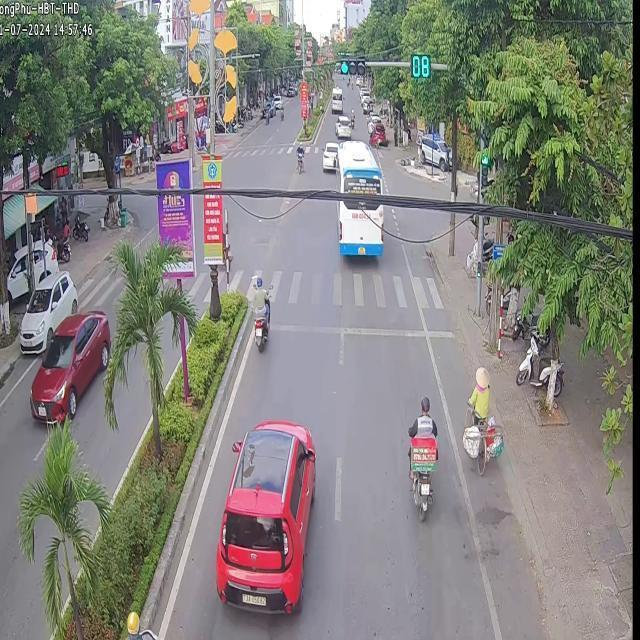car: (214, 418, 314, 611)
green_light: (477, 138, 490, 194), (338, 56, 364, 74)
motobike: (407, 397, 437, 518), (249, 274, 268, 349)
stop_line: (269, 322, 453, 338)
